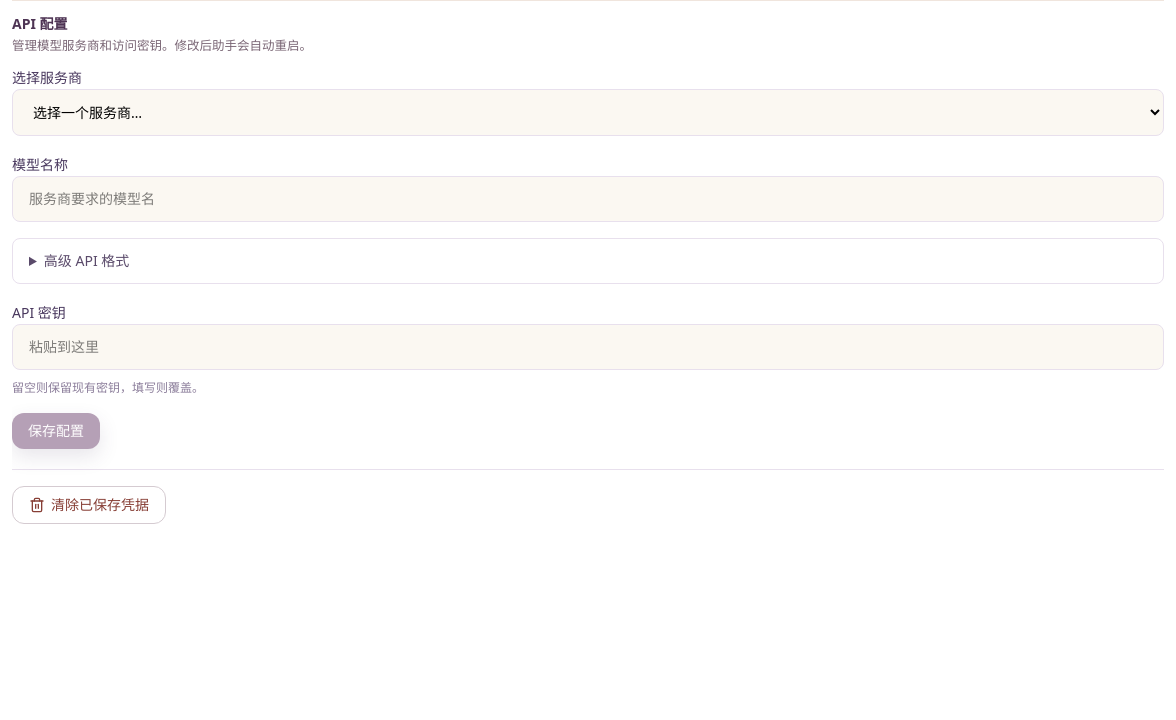
Scenario: SettingsLlmConfig credential clearing › keeps the clear action available when the command fails
Click the button "清除已保存凭据": (89, 506) [12,486,166,524]
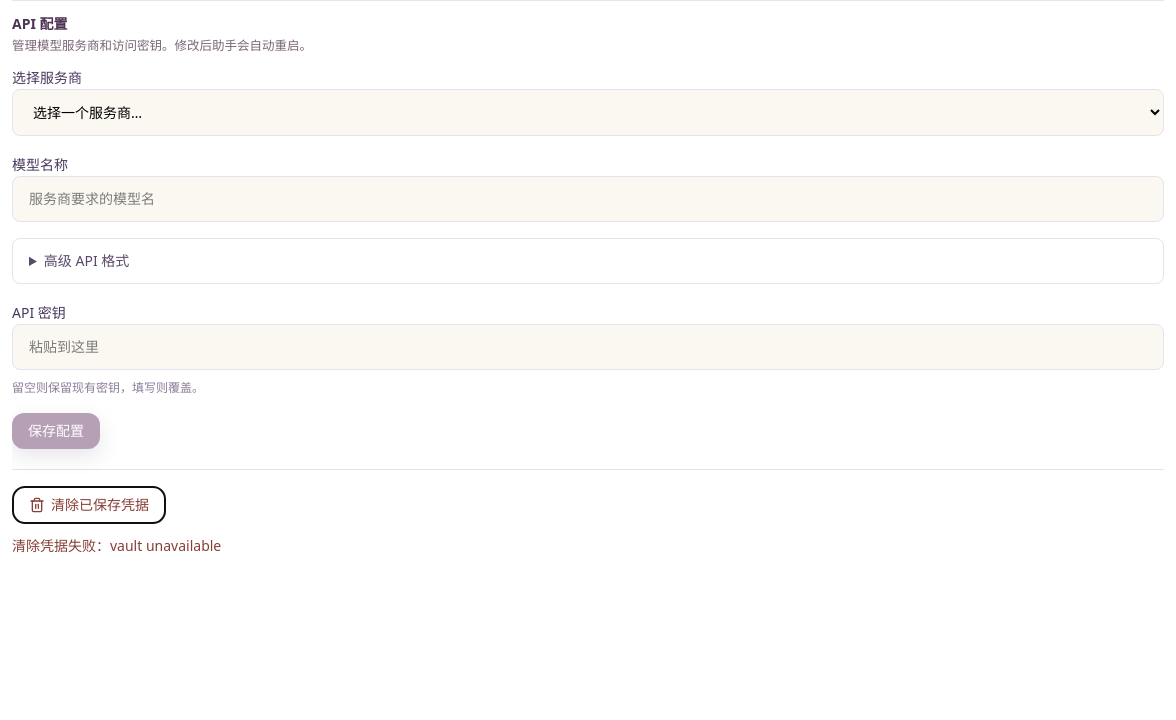
expect the message shows "vault unavailable": met, box [12,536,221,556]
